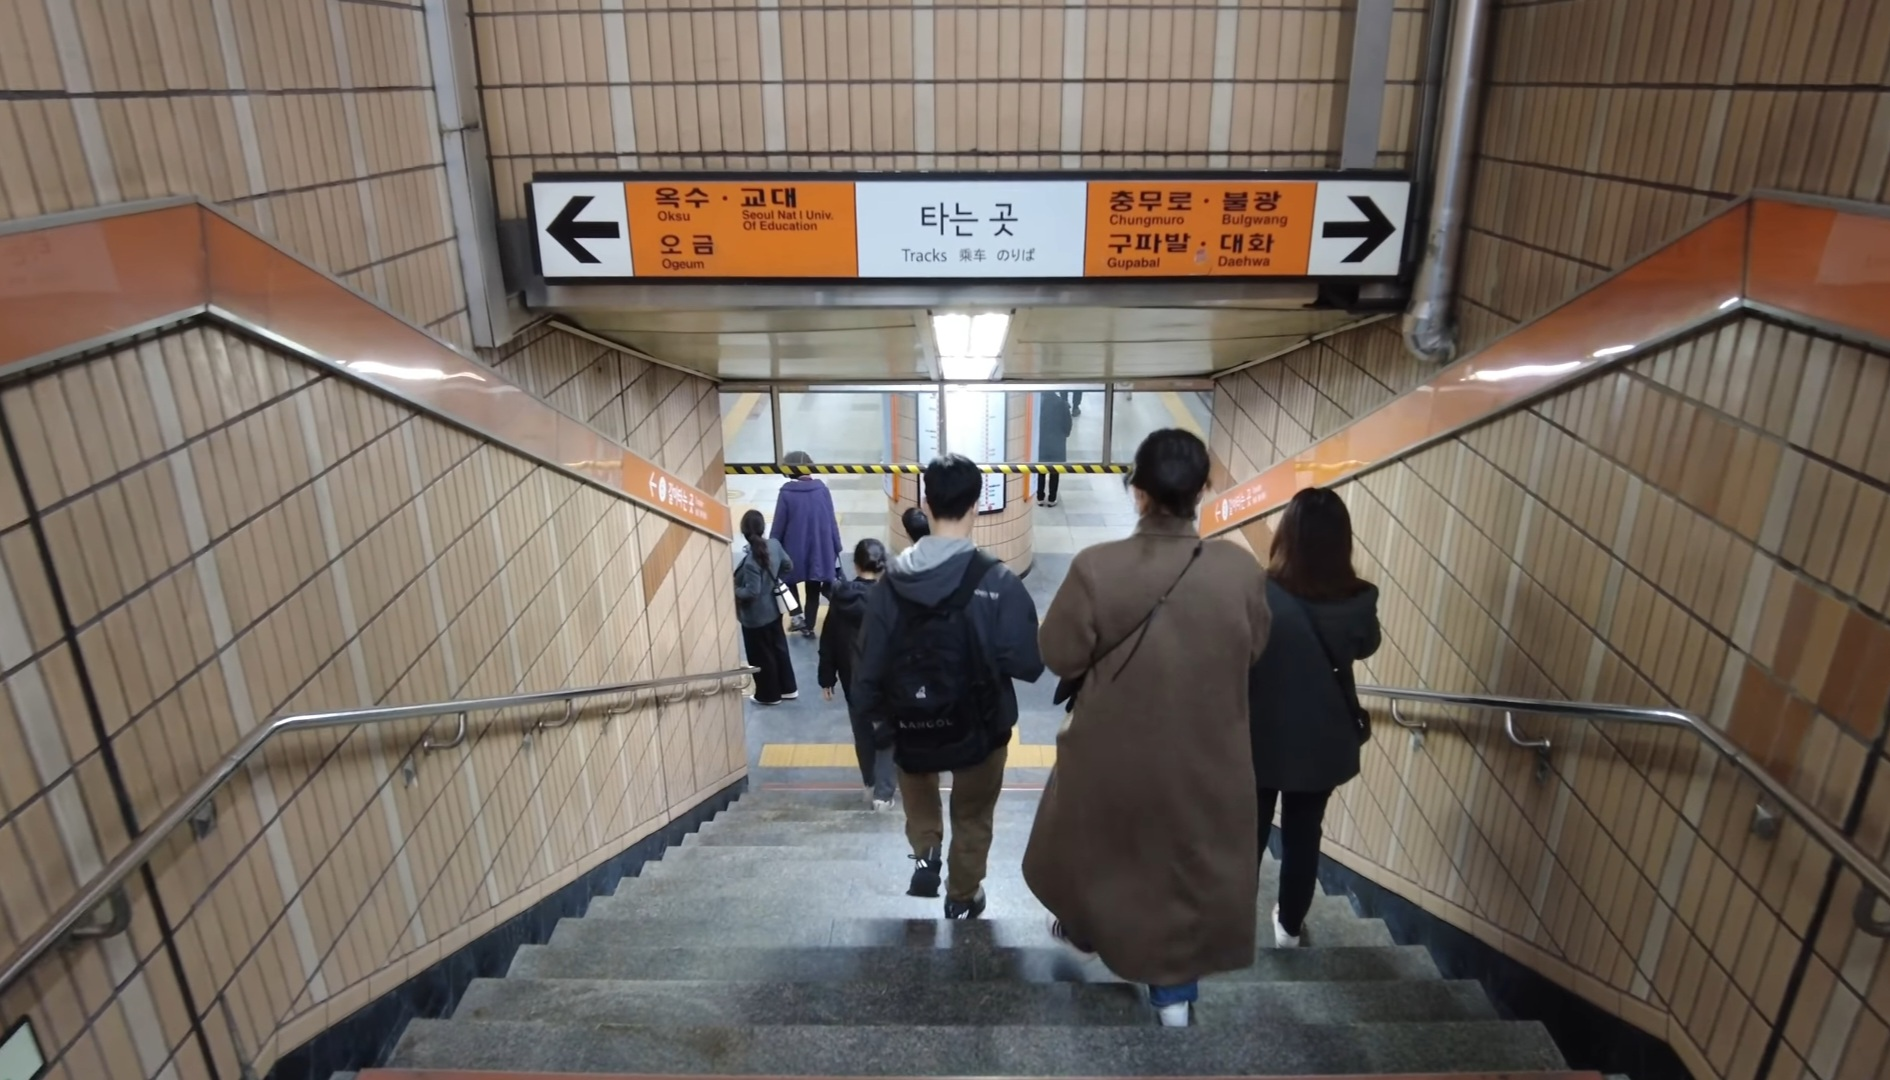signBoard: (522, 147, 1419, 287)
